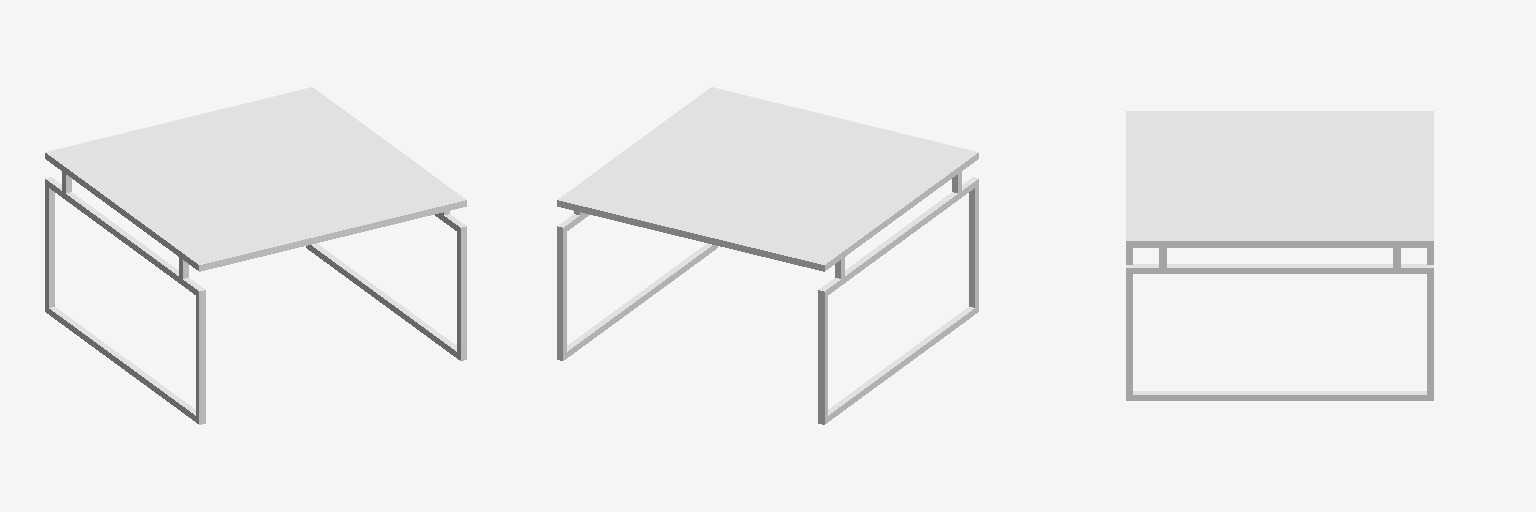
Rendered from MesaQuadrada.obj.
The picture shows the model from 3 angles: view 1: azimuth 30°, elevation 25°; view 2: azimuth 150°, elevation 25°; view 3: azimuth 270°, elevation 25°; orthographic projection.
Visible parts, largest first — view 1: object 1; view 2: object 1; view 3: object 1.
Part boxes in pixels (bbox=[...]): object 1: bbox=[45, 87, 466, 424]; object 1: bbox=[557, 87, 978, 424]; object 1: bbox=[1126, 111, 1433, 400].
Bounding box in the file's own units: 12.8 × 7.3 × 12.8.